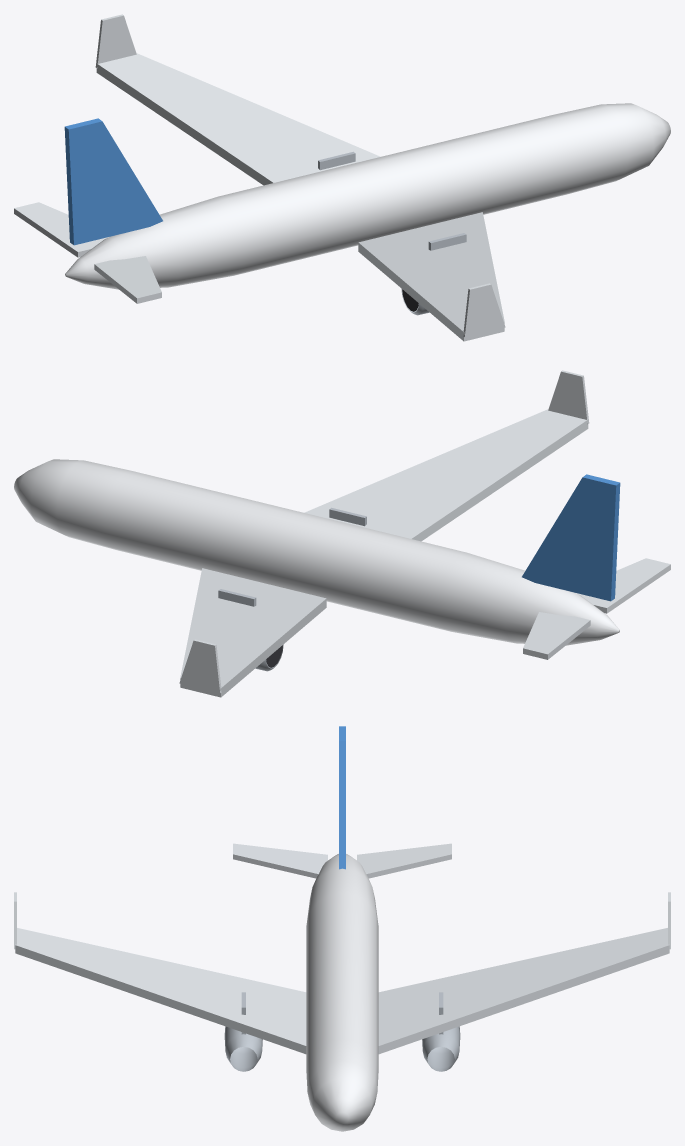
3 views of the same model, one above another, from view 1: azimuth 30°, elevation 25°; view 2: azimuth 150°, elevation 25°; view 3: azimuth 270°, elevation 25° (orthographic). The views are drawn at different scales.
Parts seen in each view (by area): view 1: A319; view 2: A319; view 3: A319.
Boxes of the visible parts, x1=… form: A319: x1=14, y1=14, x2=670, y2=341; A319: x1=14, y1=370, x2=670, y2=697; A319: x1=14, y1=726, x2=670, y2=1131.
Size of the model in its own units: 33.84 by 11.65 by 35.96.
